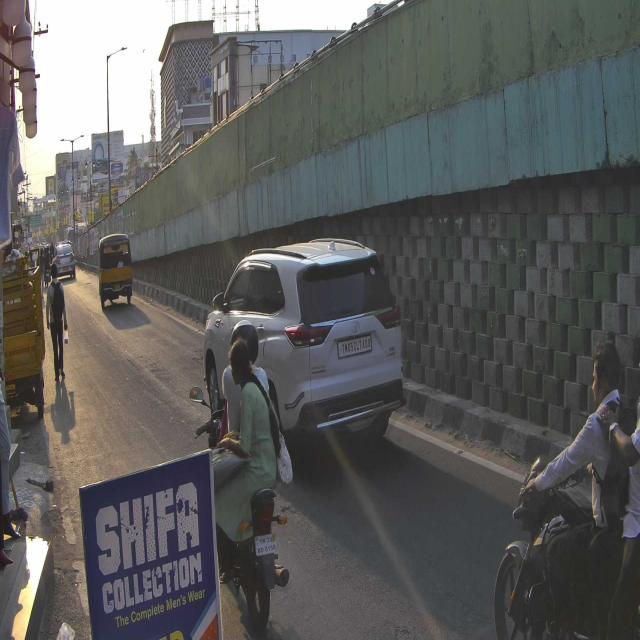double_rider: (189, 319, 295, 620)
